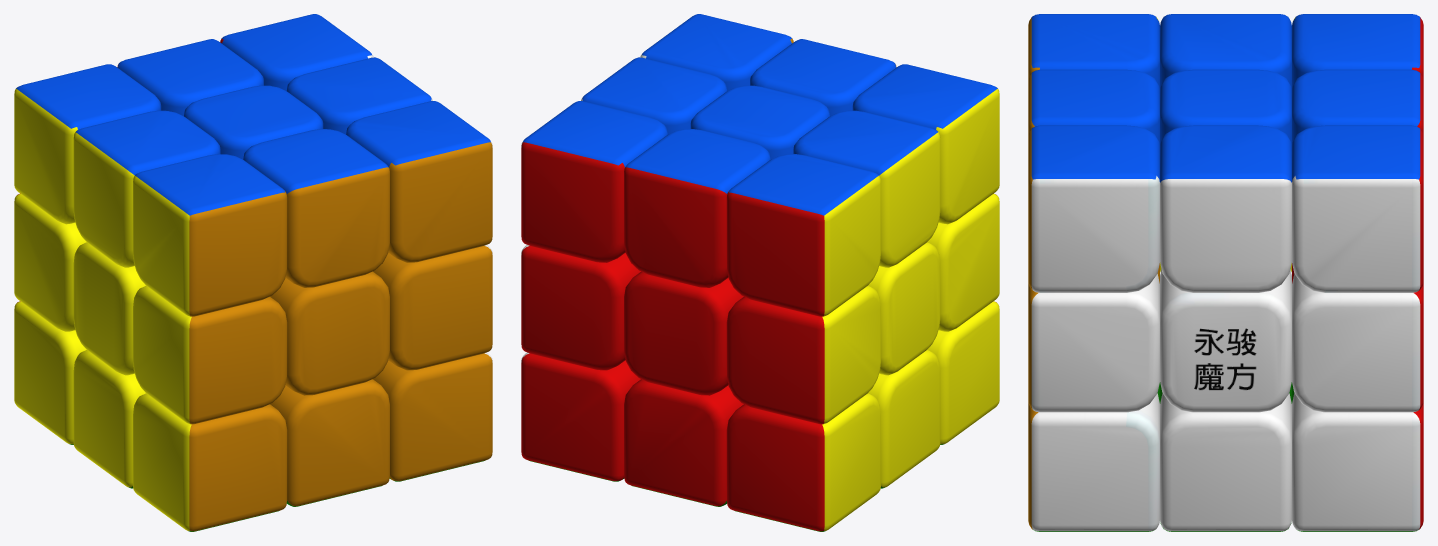
Rendered from 3×3 YULONG V3.glb.
3 views of the same model, side by side, from view 1: azimuth 30°, elevation 25°; view 2: azimuth 150°, elevation 25°; view 3: azimuth 270°, elevation 25° (orthographic). The views are drawn at different scales.
Parts seen in each view (by area): view 1: model_4, model_1, model_0; view 2: model_2, model_1, model_0; view 3: model_5, model_0, model_7, model_4, model_2, model_6.
Boxes of the visible parts, x1,y1,x2,y2 form: model_4: [189, 142, 492, 531]; model_1: [14, 89, 191, 530]; model_0: [16, 14, 490, 215]; model_2: [521, 142, 824, 531]; model_1: [822, 89, 999, 530]; model_0: [523, 14, 997, 215]; model_5: [1031, 176, 1420, 531]; model_0: [1031, 14, 1420, 182]; model_7: [1171, 307, 1280, 405]; model_4: [1028, 17, 1159, 529]; model_2: [1292, 17, 1423, 529]; model_6: [1034, 382, 1417, 531].
Bounding box in the file's own units: 5.75 × 5.75 × 5.75.
7 materials, 7 textured.
